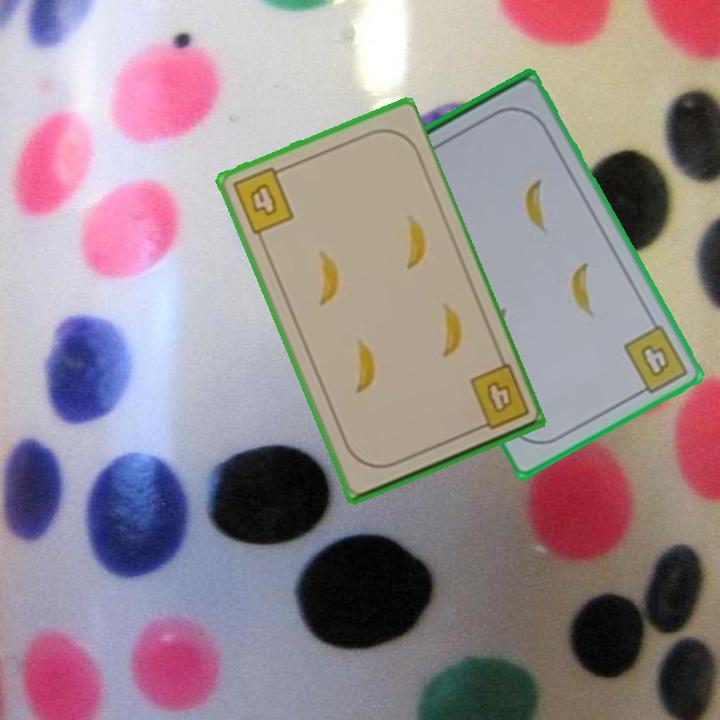4b: (620, 321, 692, 400), (228, 162, 297, 238), (464, 361, 532, 434)
